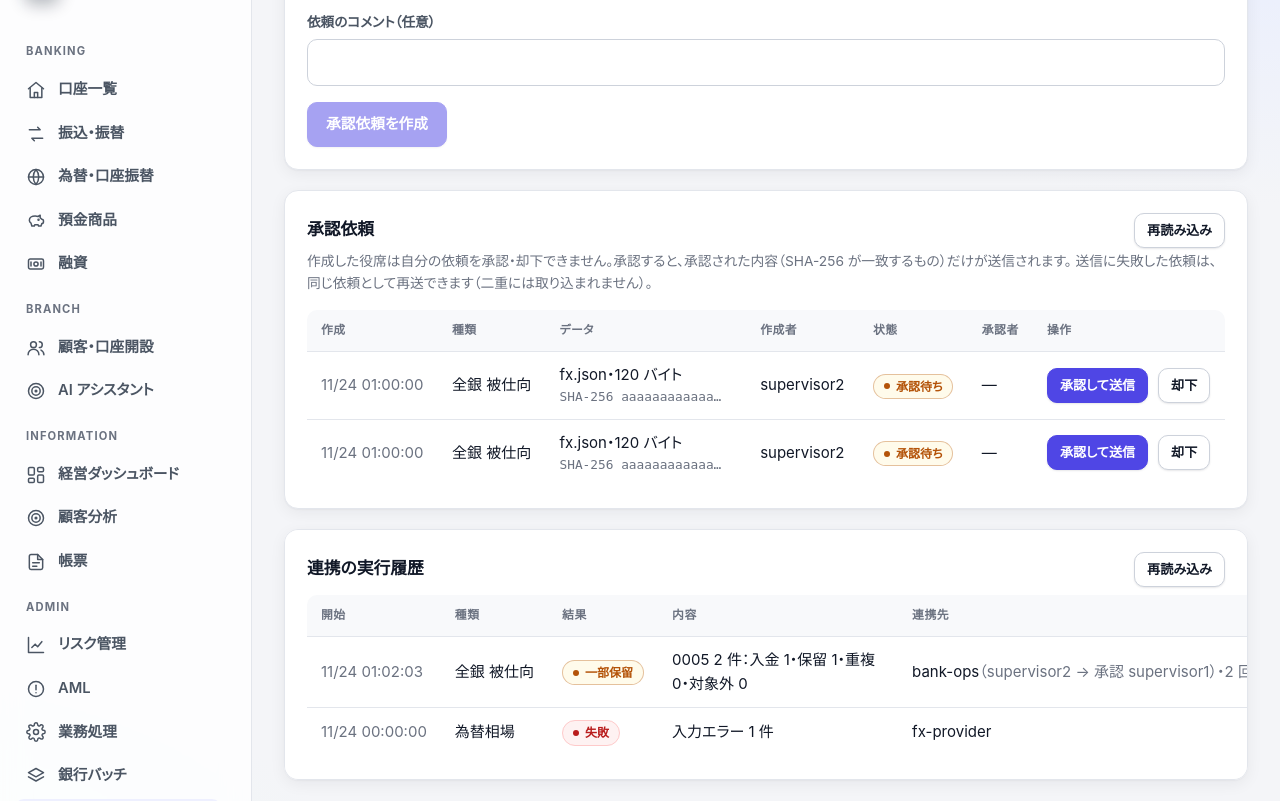
Test: IntegrationPage › 全銀の承認結果は行ごとに表示し、連携の 422 は行番号付きで表示する
This screenshot has width=1280, height=801.
(page scrolled)
Click the 1st button "承認して送信": (1098, 385) 1047,368 -> 1148,403
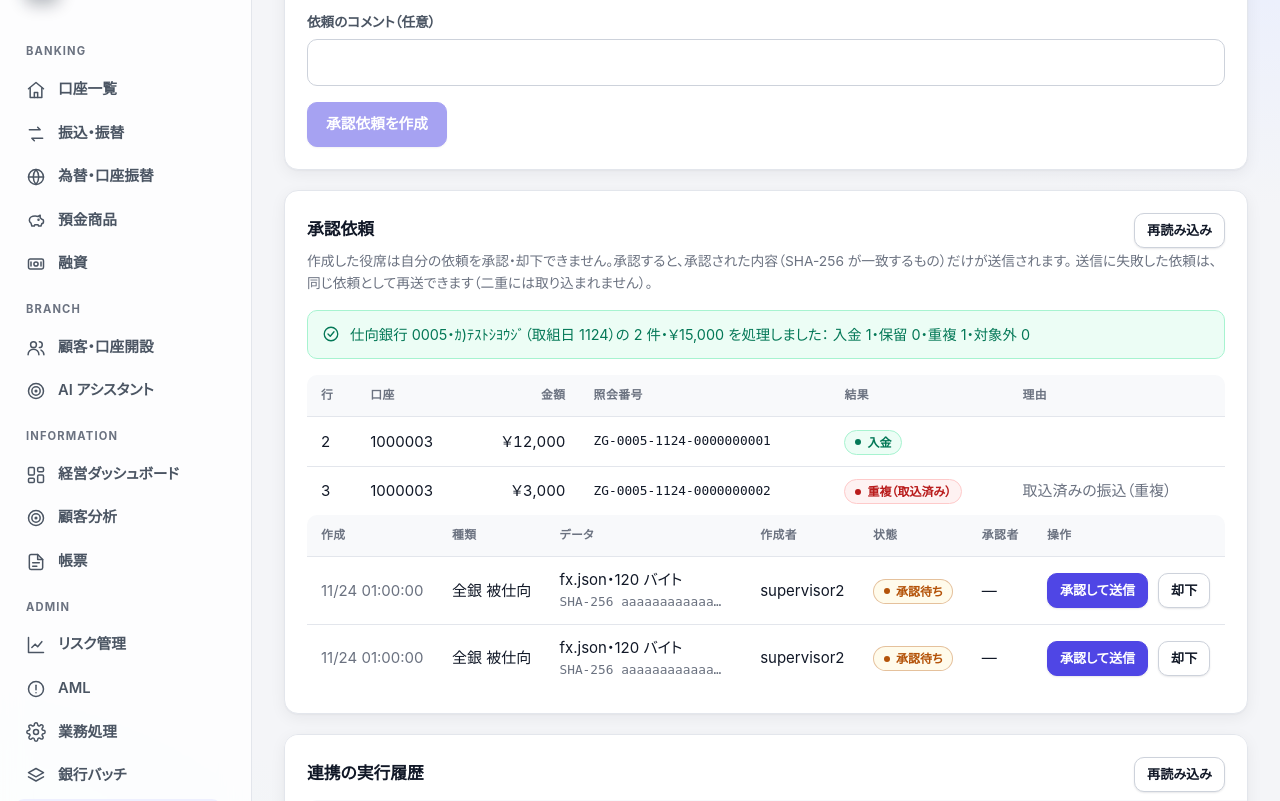
Result: the text "入金 1・保留 0・重複 1・対象外 0" is shown at 350,323 -> 1030,346
Result: the text "重複（取込済み）" is shown at 844,479 -> 962,504
Click the 2nd button "承認して送信": (1098, 658) 1047,641 -> 1148,676
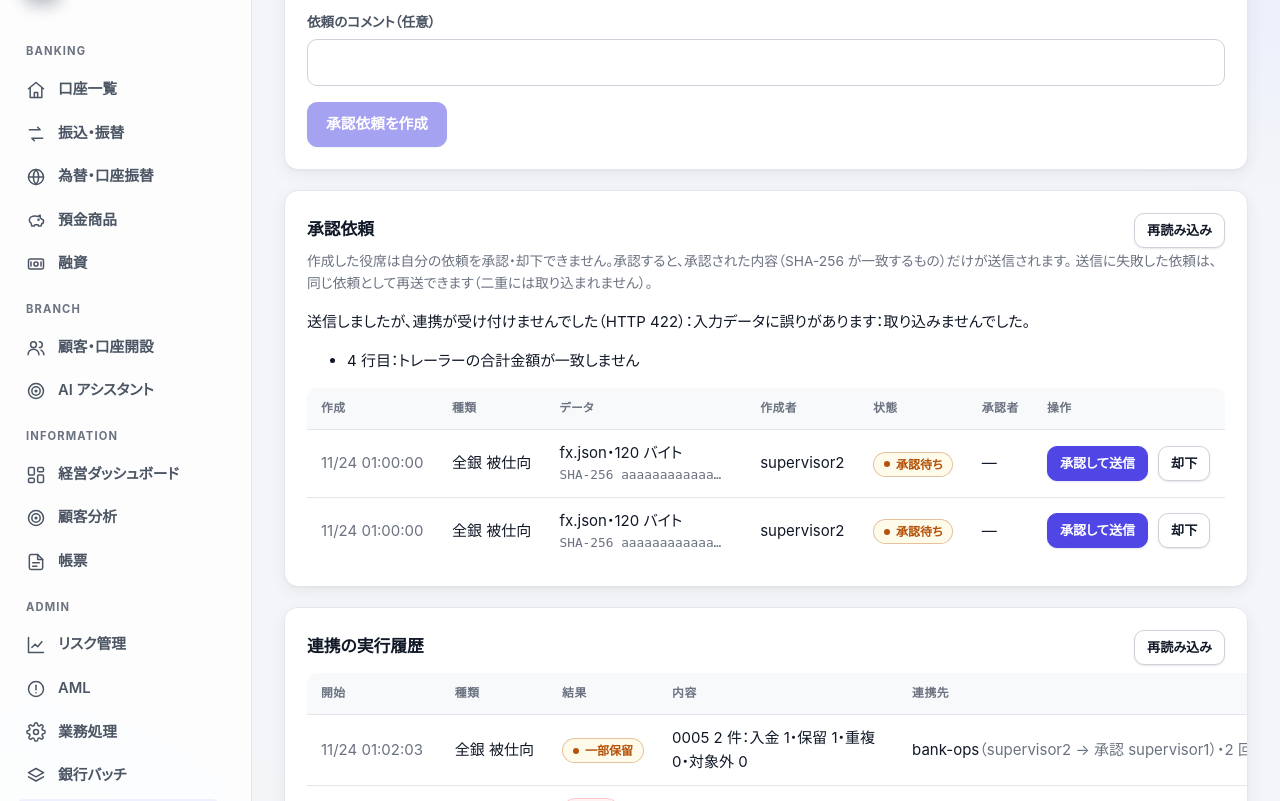
Result: the text "連携が受け付けませんでした（HTTP 422）" shows "入力データに誤りがあります：取り込みませんでした。" at 307,312 -> 1030,370
Result: the list item "4 行目：トレーラーの合計金額が一致しません" is shown at 347,351 -> 639,370
